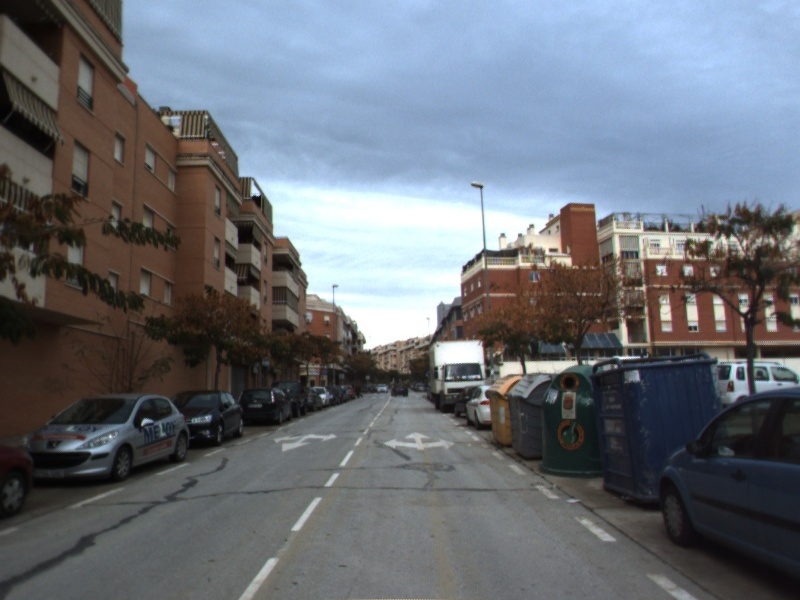STRAIGHT_LEFT_RIGHT: (382, 430, 457, 452)
